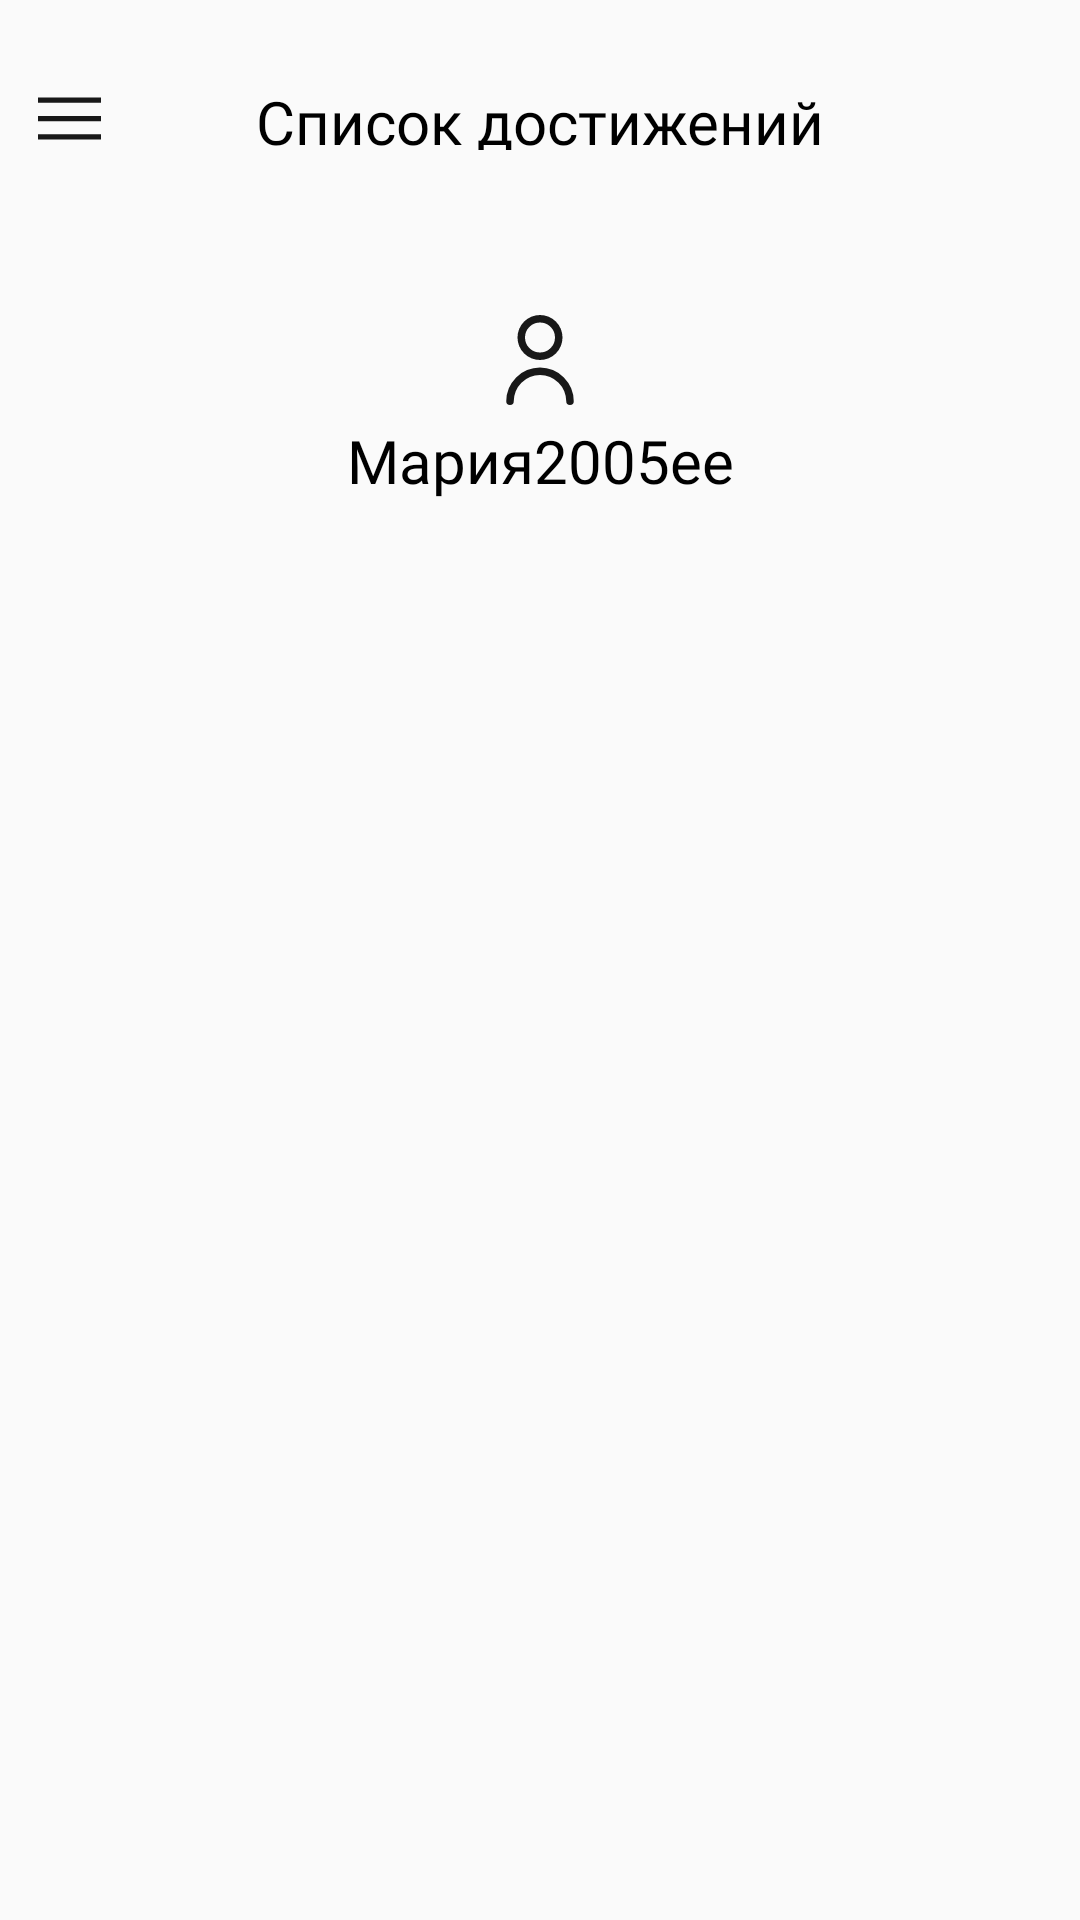

Named icons in this screenshot (1080 × 1920) and their centers, point (x, y):
burger menu: point (69, 118)
user: point (540, 360)
